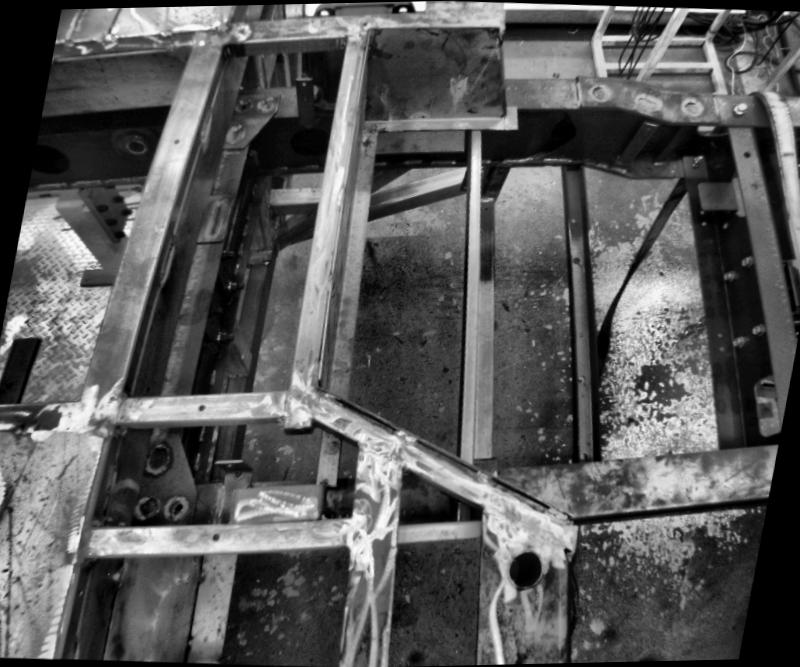bolt: (730, 100, 748, 118), (214, 328, 236, 342), (225, 278, 246, 292), (220, 244, 238, 260), (747, 321, 764, 337), (688, 152, 706, 166), (720, 270, 736, 283), (738, 257, 752, 270), (729, 335, 742, 346)
bracket: (738, 372, 786, 440), (684, 172, 742, 227), (0, 330, 43, 404), (286, 74, 328, 130), (76, 261, 123, 290)
hole: (504, 548, 546, 588), (5, 378, 19, 390), (208, 530, 221, 542), (578, 374, 588, 384), (580, 450, 589, 459), (174, 502, 184, 510), (570, 214, 580, 222), (172, 137, 182, 144), (198, 402, 206, 410), (572, 254, 580, 262), (716, 345, 724, 353), (743, 149, 752, 156), (714, 332, 720, 337), (302, 83, 308, 87), (483, 206, 486, 210)
